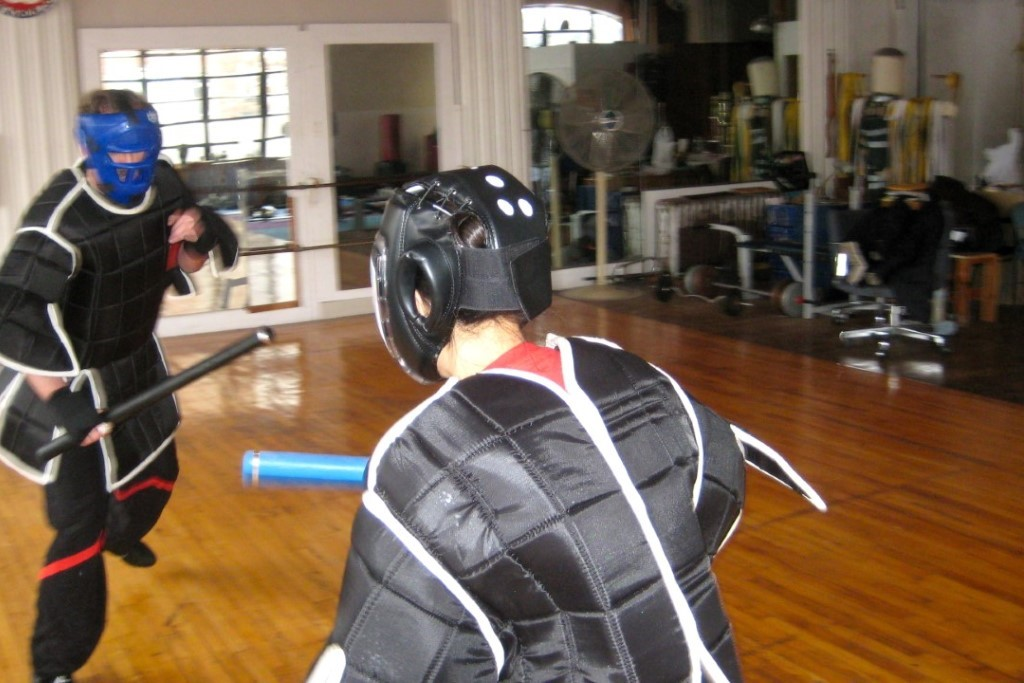baston_e: (44, 327, 256, 466), (249, 451, 382, 490)
baston_v: (228, 444, 264, 488), (238, 314, 280, 348), (25, 433, 61, 467)
